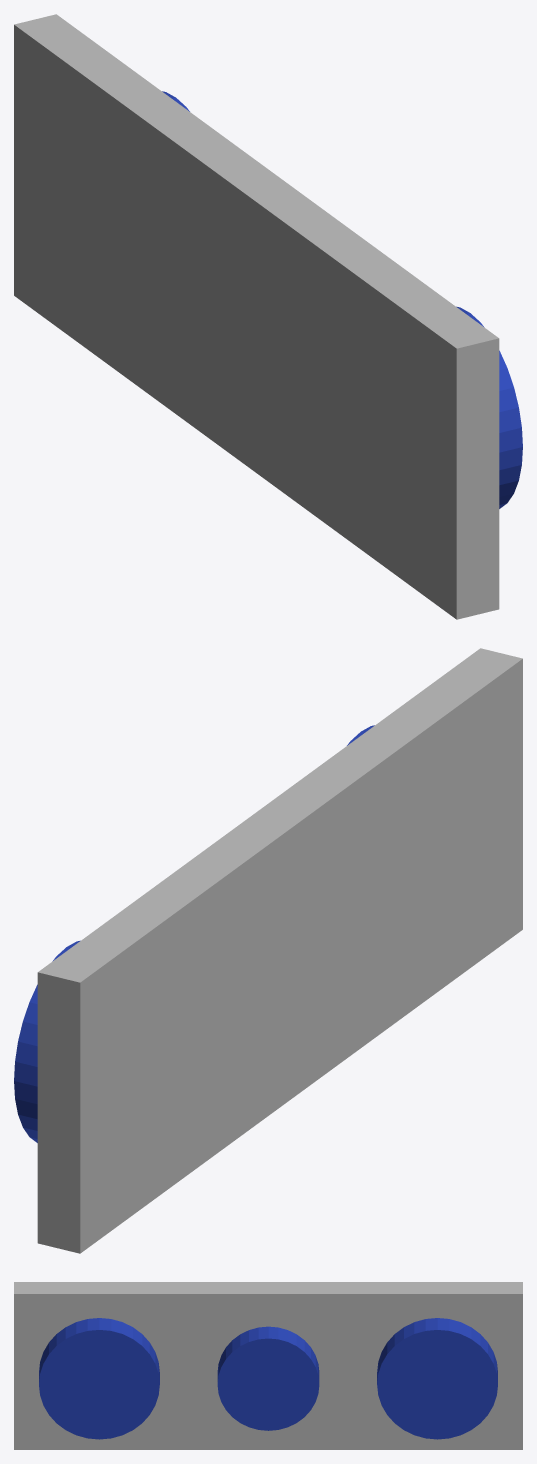
Rendered from Part4_TrLight.fbx.
The picture shows the model from 3 angles, top to bottom: view 1: azimuth 30°, elevation 25°; view 2: azimuth 150°, elevation 25°; view 3: azimuth 270°, elevation 25°; orthographic projection. The views are drawn at different scales.
Parts seen in each view (by area): view 1: BackWall, DiskLeftBK; view 2: BackWall, DiskRightB; view 3: BackWall, DiskLeftBK, DiskRightB, DiskMiddleBK.
Boxes of the visible parts, <box> form: BackWall: <box>14,14,499,619</box>; DiskLeftBK: <box>456,306,522,508</box>; BackWall: <box>37,648,522,1253</box>; DiskRightB: <box>14,940,80,1142</box>; BackWall: <box>14,1282,522,1449</box>; DiskLeftBK: <box>39,1318,159,1439</box>; DiskRightB: <box>377,1318,497,1439</box>; DiskMiddleBK: <box>217,1326,319,1430</box>.
Bounding box in the file's own units: 207 × 610 × 1806.
